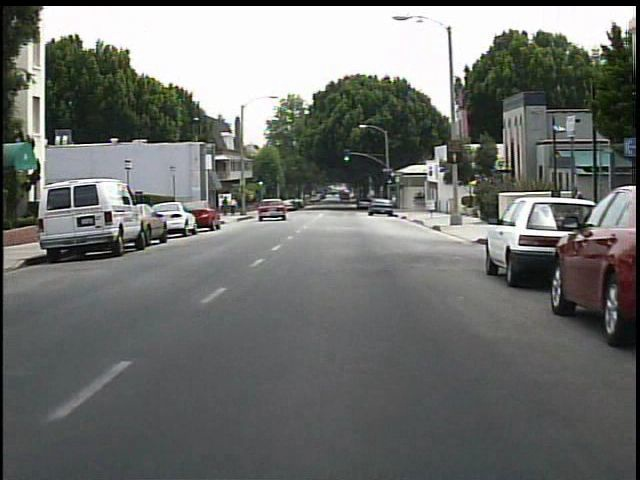person: (220, 196, 233, 217), (230, 197, 241, 219)
